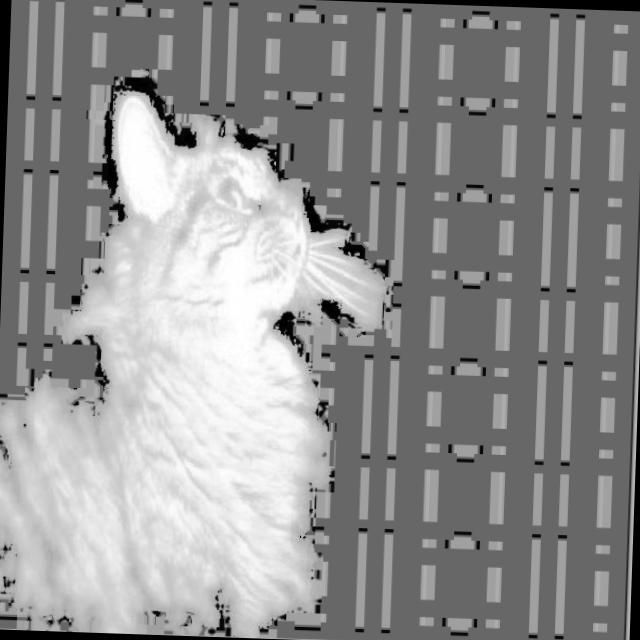Cat: (0, 87, 387, 640)
